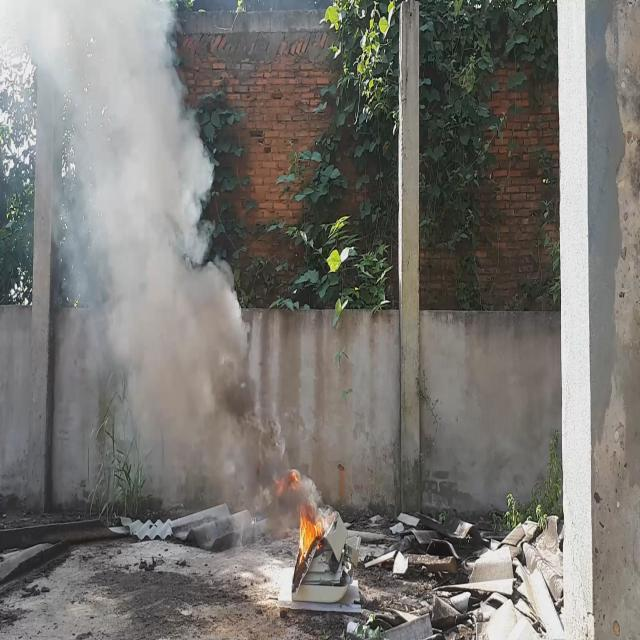Fire: (286, 464, 330, 576)
Smoke: (0, 0, 327, 535)
